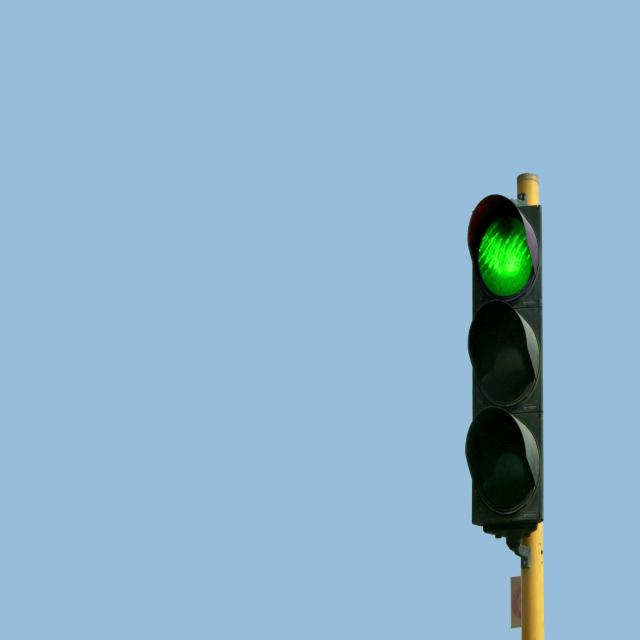Green_light: (462, 190, 546, 522)
